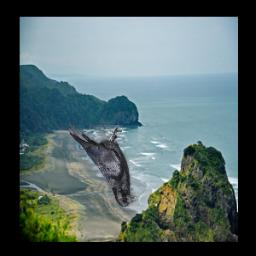Crow: (68, 126, 136, 208)
